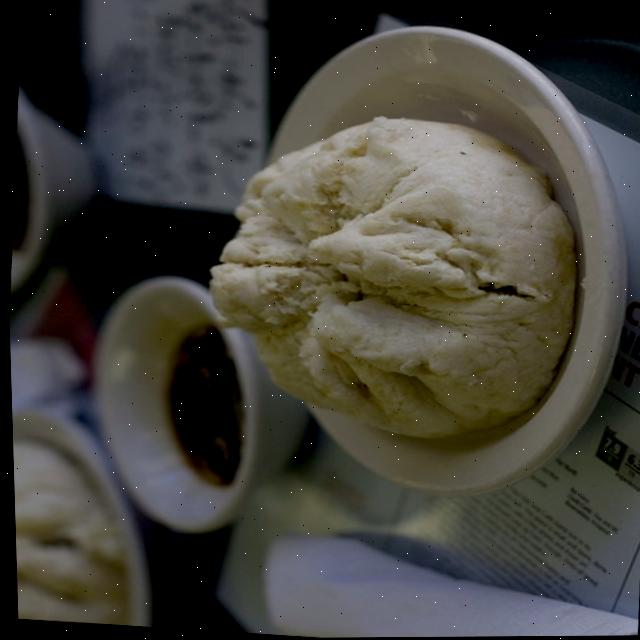带馅早点: (176, 9, 625, 512)
